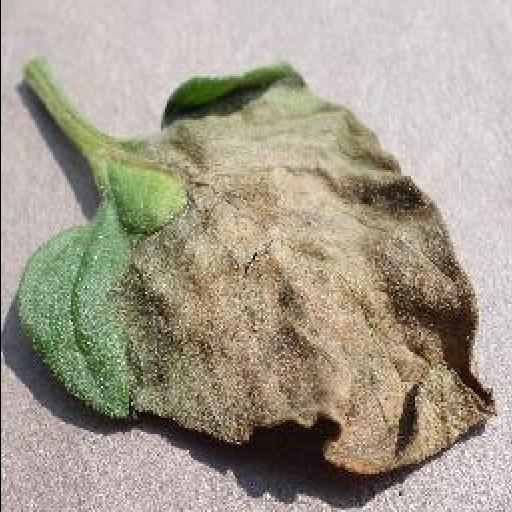disease_tomato: (22, 58, 498, 474)
